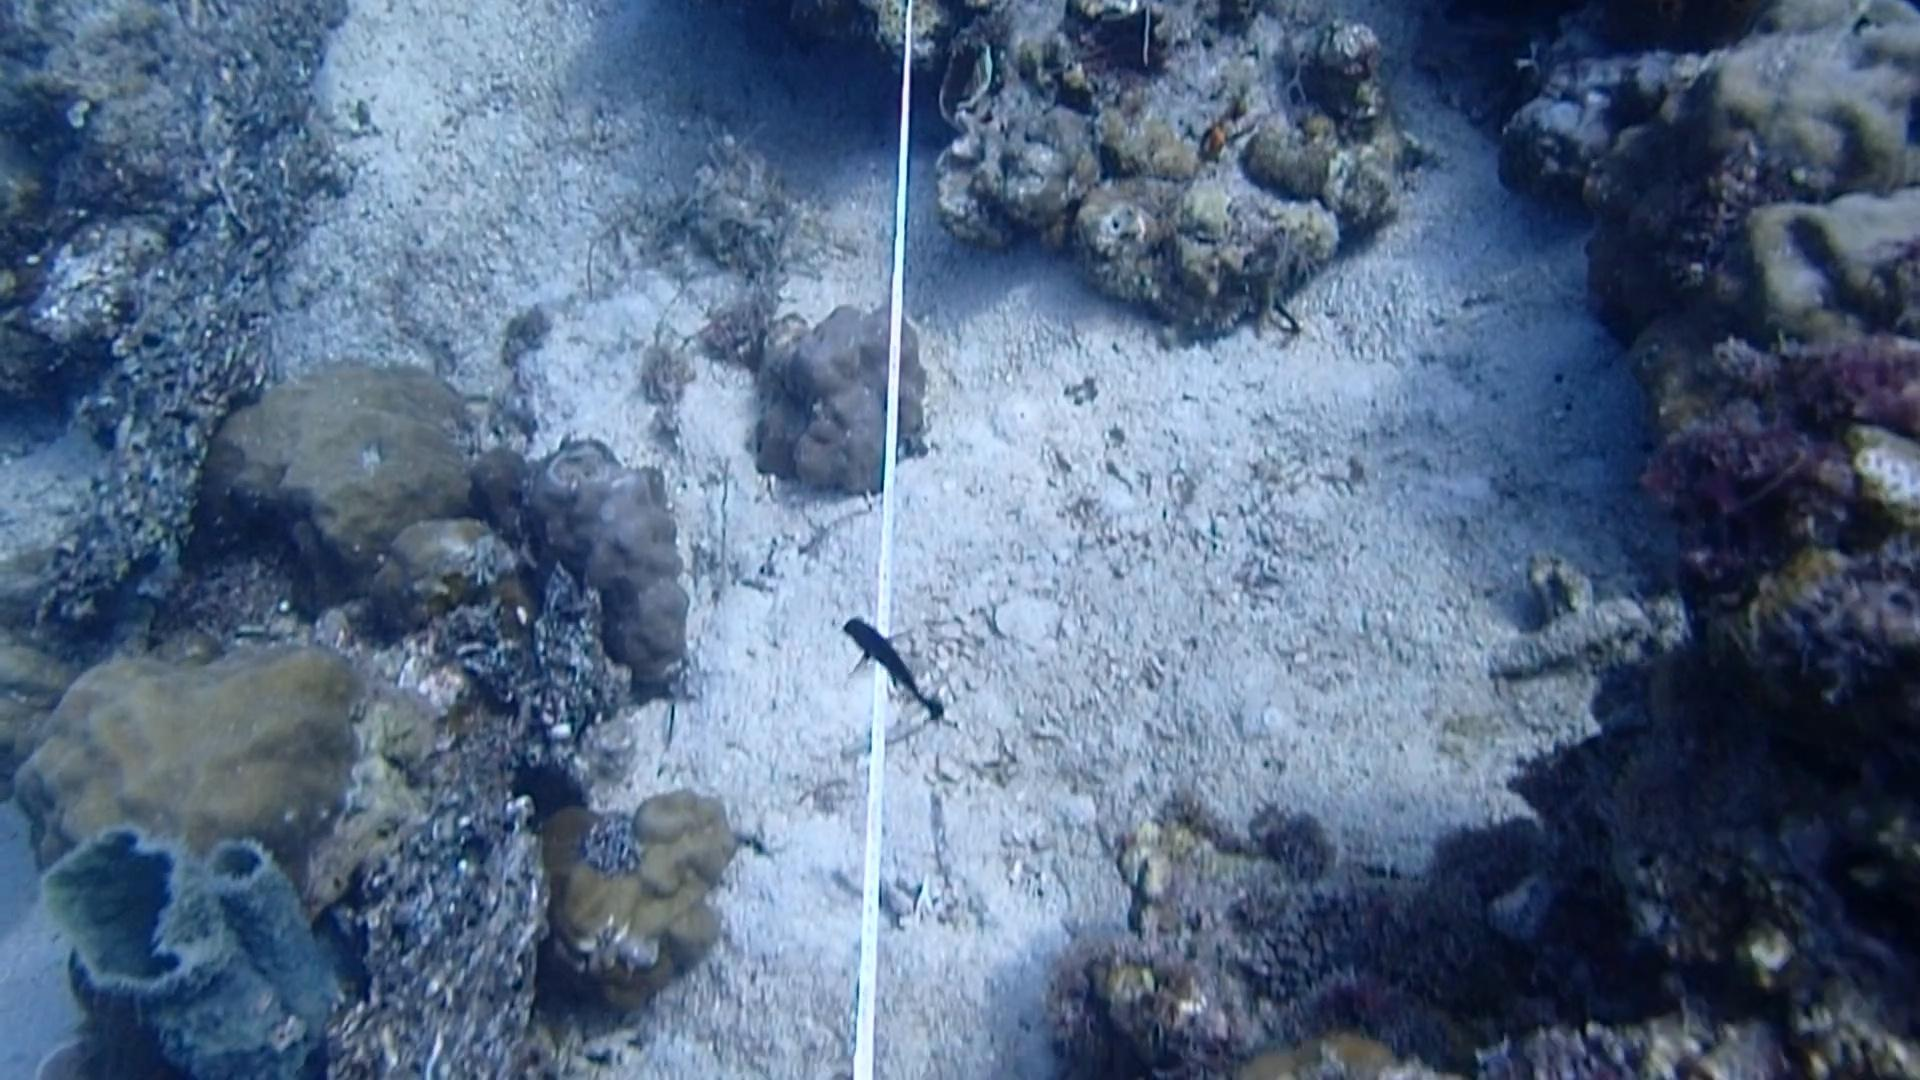Dark Fish: (839, 607, 948, 725)
